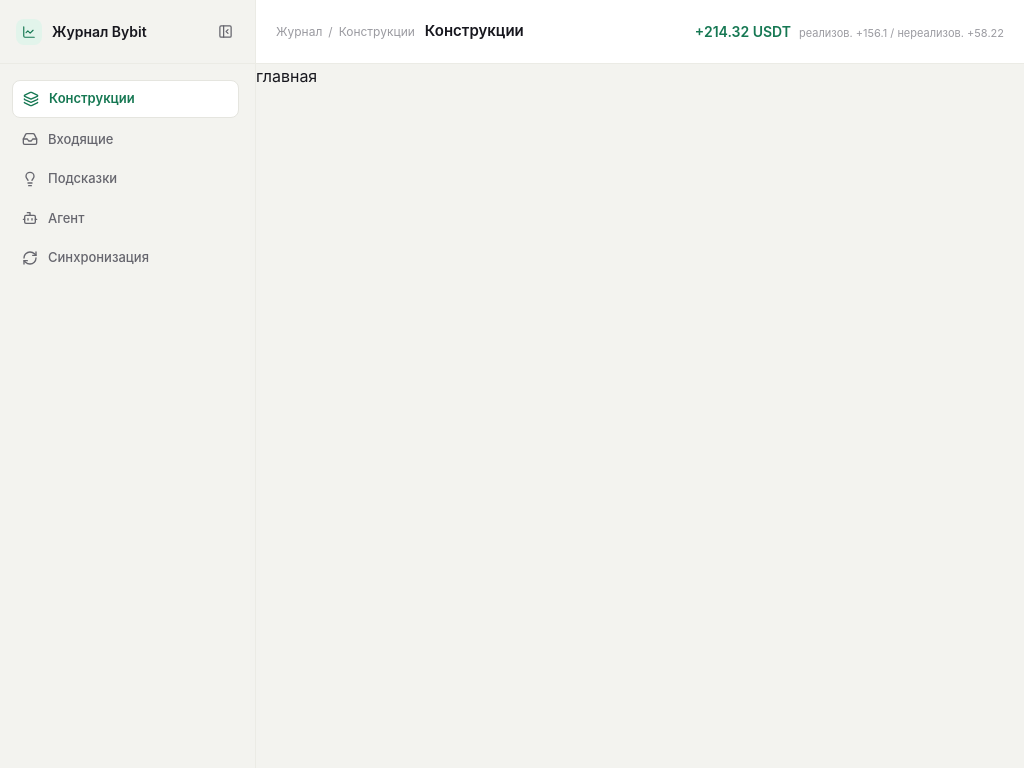
Test: сегмент страницы › экран «Агент» показывает зарегистрированный заголовок «Агент · Чаты»
переход в раздел «Агент».
Click the link "Агент" at (53, 218), box [22,210,84,226]
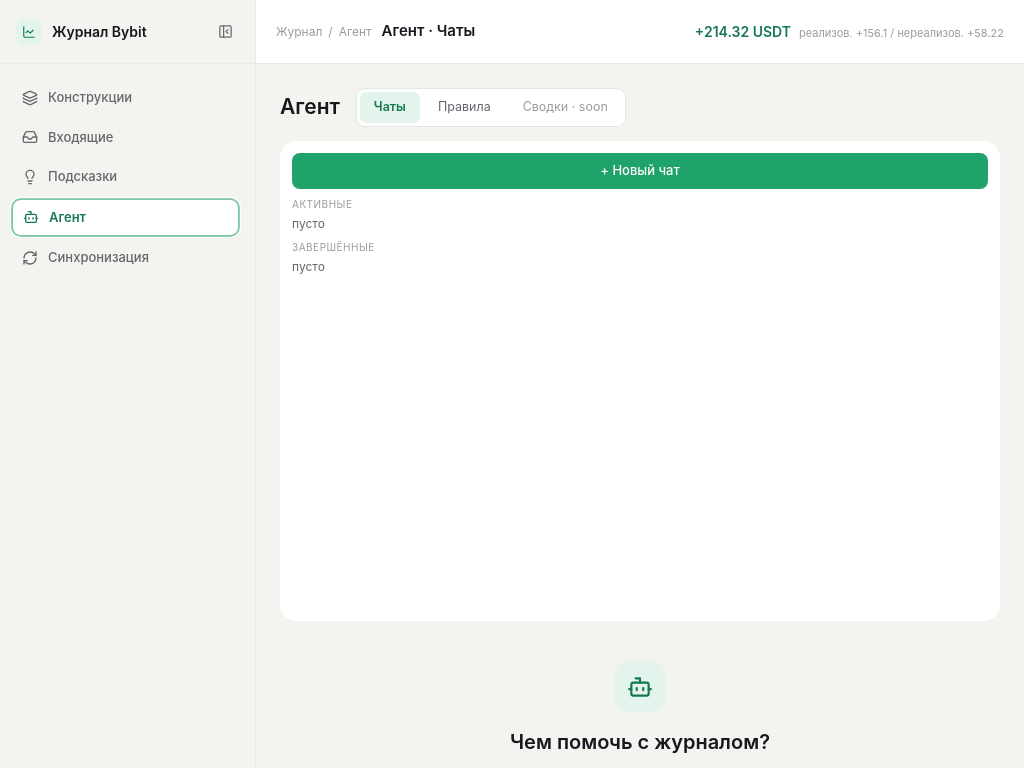
Now the heading "Агент" is shown, box [280,93,340,121]
Now the navigation bar named "Крошка раздела" reads "Журнал / Агент", box [276,24,372,40]
Now the text with test id "topbar-page-title" reads "Агент · Чаты", box [382,21,475,40]
